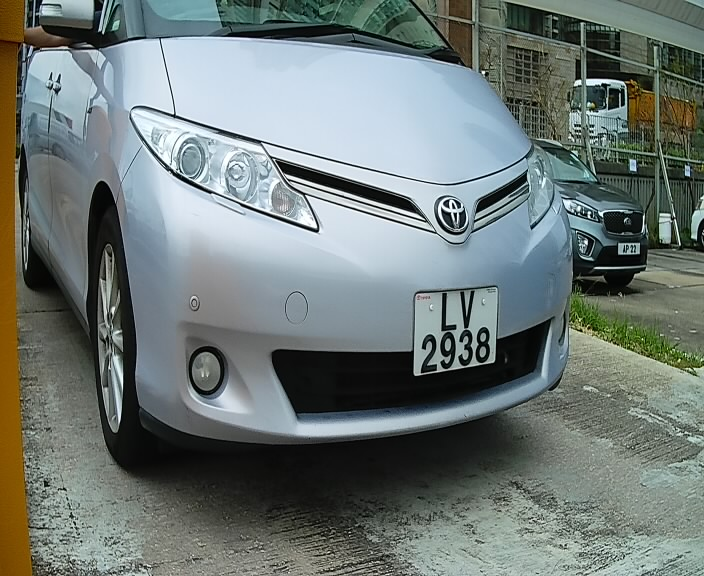License Plate: (407, 279, 508, 387)
